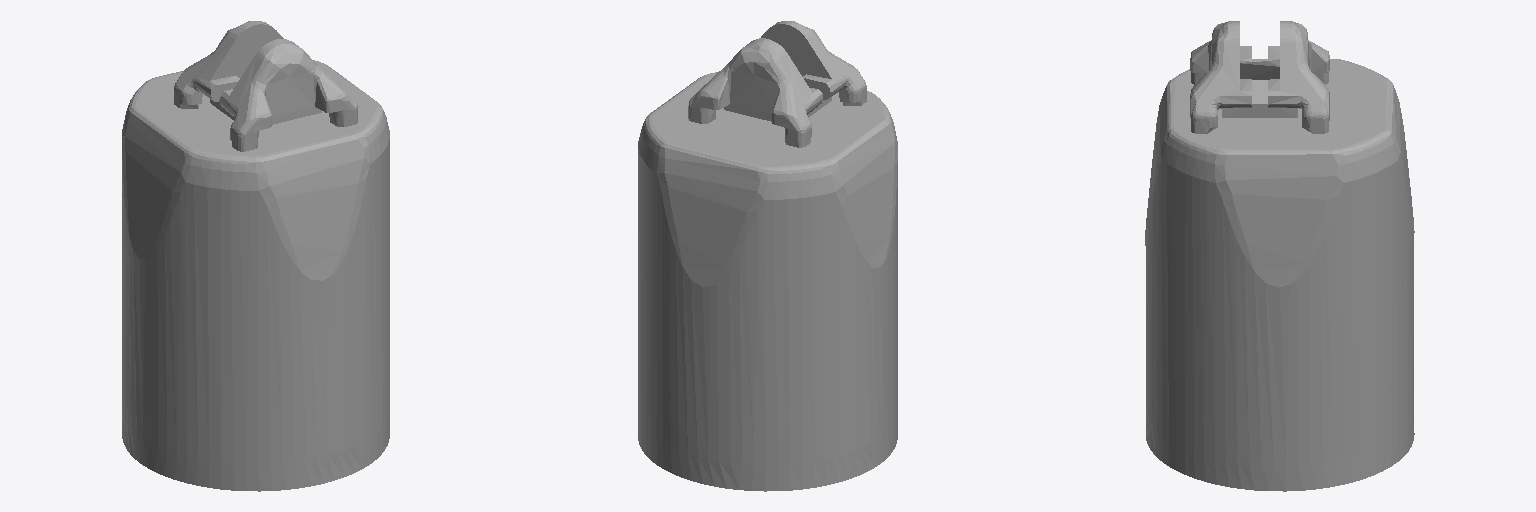
URDF robot description (ur10):
<?xml version="1.0" encoding="utf-8"?>
<!-- =================================================================================== -->
<!-- |    This document was autogenerated by xacro from ur10_robot.urdf.xacro          | -->
<!-- |    EDITING THIS FILE BY HAND IS NOT RECOMMENDED                                 | -->
<!-- =================================================================================== -->
<robot name="ur10">
  <gazebo>
    <plugin filename="libgazebo_ros_control.so" name="ros_control">
      <!--robotNamespace>/</robotNamespace-->
      <!--robotSimType>gazebo_ros_control/DefaultRobotHWSim</robotSimType-->
    </plugin>
    <!--
    <plugin name="gazebo_ros_power_monitor_controller" filename="libgazebo_ros_power_monitor.so">
      <alwaysOn>true</alwaysOn>
      <updateRate>1.0</updateRate>
      <timeout>5</timeout>
      <powerStateTopic>power_state</powerStateTopic>
      <powerStateRate>10.0</powerStateRate>
      <fullChargeCapacity>87.78</fullChargeCapacity>     
      <dischargeRate>-474</dischargeRate>
      <chargeRate>525</chargeRate>
      <dischargeVoltage>15.52</dischargeVoltage>
      <chargeVoltage>16.41</chargeVoltage>
    </plugin>
-->
  </gazebo>
  <!--
  Author: [author]
  Contributers: [author], [author], [author]
-->
  <!-- measured from model -->
  <link name="base_link">
    <visual>
      <geometry>
        <mesh filename="meshes/ur10/visual/base.dae"/>
      </geometry>
      <material name="LightGrey">
        <color rgba="0.7 0.7 0.7 1.0"/>
      </material>
    </visual>
    <collision>
      <geometry>
        <mesh filename="meshes/ur10/collision/base.stl"/>
      </geometry>
    </collision>
    <inertial>
      <mass value="4.0"/>
      <origin rpy="0 0 0" xyz="0.0 0.0 0.0"/>
      <inertia ixx="0.0061063308908" ixy="0.0" ixz="0.0" iyy="0.0061063308908" iyz="0.0" izz="0.01125"/>
    </inertial>
  </link>
  <joint name="shoulder_pan_joint" type="revolute">
    <parent link="base_link"/>
    <child link="shoulder_link"/>
    <origin rpy="0.0 0.0 0.0" xyz="0.0 0.0 0.1273"/>
    <axis xyz="0 0 1"/>
    <limit effort="330.0" lower="-6.28318530718" upper="6.28318530718" velocity="2.16"/>
    <dynamics damping="0.0" friction="0.0"/>
  </joint>
  <link name="shoulder_link">
    <visual>
      <geometry>
        <mesh filename="meshes/ur10/visual/shoulder.dae"/>
      </geometry>
      <material name="LightGrey">
        <color rgba="0.7 0.7 0.7 1.0"/>
      </material>
    </visual>
    <collision>
      <geometry>
        <mesh filename="meshes/ur10/collision/shoulder.stl"/>
      </geometry>
    </collision>
    <inertial>
      <mass value="7.778"/>
      <origin rpy="0 0 0" xyz="0.0 0.0 0.0"/>
      <inertia ixx="0.0314743125769" ixy="0.0" ixz="0.0" iyy="0.0314743125769" iyz="0.0" izz="0.021875625"/>
    </inertial>
  </link>
  <joint name="shoulder_lift_joint" type="revolute">
    <parent link="shoulder_link"/>
    <child link="upper_arm_link"/>
    <!--origin rpy="0.0 1.57079632679 0.0" xyz="0.0 0.220941 0.0"/-->
    <origin rpy="0.0 0.0 0.0" xyz="0.0 0.220941 0.0"/>
    <axis xyz="0 1 0"/>
    <limit effort="330.0" lower="-6.28318530718" upper="6.28318530718" velocity="2.16"/>
    <dynamics damping="0.0" friction="0.0"/>
  </joint>
  <link name="upper_arm_link">
    <visual>
      <geometry>
        <mesh filename="meshes/ur10/visual/upperarm.dae"/>
      </geometry>
      <material name="LightGrey">
        <color rgba="0.7 0.7 0.7 1.0"/>
      </material>
    </visual>
    <collision>
      <geometry>
        <mesh filename="meshes/ur10/collision/upperarm.stl"/>
      </geometry>
    </collision>
    <inertial>
      <mass value="12.93"/>
      <origin rpy="0 0 0" xyz="0.0 -0.045 0.306"/>
      <inertia ixx="0.421753803798" ixy="0.0" ixz="0.0" iyy="0.421753803798" iyz="0.0" izz="0.036365625"/>
    </inertial>
  </link>
  <joint name="elbow_joint" type="revolute">
    <parent link="upper_arm_link"/>
    <child link="forearm_link"/>
    <origin rpy="0.0 0.0 0.0" xyz="0.0 -0.1719 0.612"/>
    <axis xyz="0 1 0"/>
    <limit effort="150.0" lower="-3.14159265359" upper="3.14159265359" velocity="3.15"/>
    <dynamics damping="0.0" friction="0.0"/>
  </joint>
  <link name="forearm_link">
    <visual>
      <geometry>
        <mesh filename="meshes/ur10/visual/forearm.dae"/>
      </geometry>
      <material name="LightGrey">
        <color rgba="0.7 0.7 0.7 1.0"/>
      </material>
    </visual>
    <collision>
      <geometry>
        <mesh filename="meshes/ur10/collision/forearm.stl"/>
      </geometry>
    </collision>
    <inertial>
      <mass value="3.87"/>
      <origin rpy="0 0 0" xyz="0.0 0.0 0.28615"/>
      <inertia ixx="0.111069694097" ixy="0.0" ixz="0.0" iyy="0.111069694097" iyz="0.0" izz="0.010884375"/>
    </inertial>
  </link>
  <joint name="wrist_1_joint" type="revolute">
    <parent link="forearm_link"/>
    <child link="wrist_1_link"/>
    <origin rpy="0.0 1.57079632679 0.0" xyz="0.0 0.0 0.5723"/>
    <axis xyz="0 1 0"/>
    <limit effort="54.0" lower="-6.28318530718" upper="6.28318530718" velocity="3.2"/>
    <dynamics damping="0.0" friction="0.0"/>
  </joint>
  <link name="wrist_1_link">
    <visual>
      <geometry>
        <mesh filename="meshes/ur10/visual/wrist1.dae"/>
      </geometry>
      <material name="LightGrey">
        <color rgba="0.7 0.7 0.7 1.0"/>
      </material>
    </visual>
    <collision>
      <geometry>
        <mesh filename="meshes/ur10/collision/wrist1.stl"/>
      </geometry>
    </collision>
    <inertial>
      <mass value="1.96"/>
      <origin rpy="0 0 0" xyz="0.0 0.1149 0.0"/>
      <inertia ixx="0.0051082479567" ixy="0.0" ixz="0.0" iyy="0.0051082479567" iyz="0.0" izz="0.0055125"/>
    </inertial>
  </link>
  <joint name="wrist_2_joint" type="revolute">
    <parent link="wrist_1_link"/>
    <child link="wrist_2_link"/>
    <origin rpy="0.0 0.0 0.0" xyz="0.0 0.1149 0.0"/>
    <axis xyz="0 0 1"/>
    <limit effort="54.0" lower="-6.28318530718" upper="6.28318530718" velocity="3.2"/>
    <dynamics damping="0.0" friction="0.0"/>
  </joint>
  <link name="wrist_2_link">
    <visual>
      <geometry>
        <mesh filename="meshes/ur10/visual/wrist2.dae"/>
      </geometry>
      <material name="LightGrey">
        <color rgba="0.7 0.7 0.7 1.0"/>
      </material>
    </visual>
    <collision>
      <geometry>
        <mesh filename="meshes/ur10/collision/wrist2.stl"/>
      </geometry>
    </collision>
    <inertial>
      <mass value="1.96"/>
      <origin rpy="0 0 0" xyz="0.0 0.0 0.1157"/>
      <inertia ixx="0.0051082479567" ixy="0.0" ixz="0.0" iyy="0.0051082479567" iyz="0.0" izz="0.0055125"/>
    </inertial>
  </link>
  <joint name="wrist_3_joint" type="revolute">
    <parent link="wrist_2_link"/>
    <child link="wrist_3_link"/>
    <origin rpy="-1.5707963267948966 0.0 0.0" xyz="0.0 0.0 0.1157"/>
    <!--origin rpy="0.0 0.0 0.0" xyz="0.0 0.0 0.1157"/-->
    <axis xyz="0 0 1"/>
    <limit effort="54.0" lower="-6.28318530718" upper="6.28318530718" velocity="3.2"/>
    <dynamics damping="0.0" friction="0.0"/>
  </joint>
  <link name="wrist_3_link">
    <visual>
      <geometry>
        <mesh filename="meshes/ur10/visual/wrist3.dae"/>
      </geometry>
      <material name="LightGrey">
        <color rgba="0.7 0.7 0.7 1.0"/>
      </material>
    </visual>
    <collision>
      <geometry>
        <mesh filename="meshes/ur10/collision/wrist3.stl"/>
      </geometry>
    </collision>
    <inertial>
      <mass value="0.202"/>
      <origin rpy="1.57079632679 0 0" xyz="0.0 0.07695 0.0"/>
      <!--origin rpy="0.0 0 0" xyz="0.0 0.07695 0.0"/-->
      <inertia ixx="0.000117921661165" ixy="0.0" ixz="0.0" iyy="0.000117921661165" iyz="0.0" izz="0.000204525"/>
    </inertial>
  </link>
  <joint name="ee_fixed_joint" type="fixed">
    <parent link="wrist_3_link"/>
    <child link="ee_link"/>
    <origin rpy="0.0 0.0 0.0" xyz="0.0 0.0 0.0922"/>
    <!--origin rpy="0.0 0.0 0.0" xyz="0.0 0.0922 0.0"/-->
  </joint>
  <link name="ee_link">
    <collision>
      <geometry>
        <box size="0.01 0.01 0.01"/>
      </geometry>
      <origin rpy="0 0 0" xyz="-0.01 0 0"/>
    </collision>
  </link>

  <link name="world" />
  <joint name="world_joint" type="fixed">
    <parent link="world"/>
    <child link="base_link"/>
    <origin rpy="0.0 0.0 0.0" xyz="0.0 0.0 0.0"/>
  </joint>
</robot>

--- Render facts (derived) ---
Views: 3 orthographic renders of the robot side by side, from view 1: azimuth 30°, elevation 25°; view 2: azimuth 150°, elevation 25°; view 3: azimuth 270°, elevation 25°.
Model ur10 with 9 links and 8 joints (6 revolute, 2 fixed), rooted at world, posed every joint at zero.
Links seen in each view (by area): view 1: forearm_link; view 2: forearm_link; view 3: forearm_link.
Link boxes in pixels (x1=…): forearm_link: x1=122, y1=21, x2=389, y2=491; forearm_link: x1=638, y1=21, x2=897, y2=491; forearm_link: x1=1145, y1=21, x2=1414, y2=491.
Bounding box of the posed robot: 1.35 × 1.35 × 2.28 m (x, y, z).
Meshes: 7 distinct files referenced, 2 mesh visuals loaded (2 Collada DAE); not drawn: 5 (reference not matched to a file when rendering).